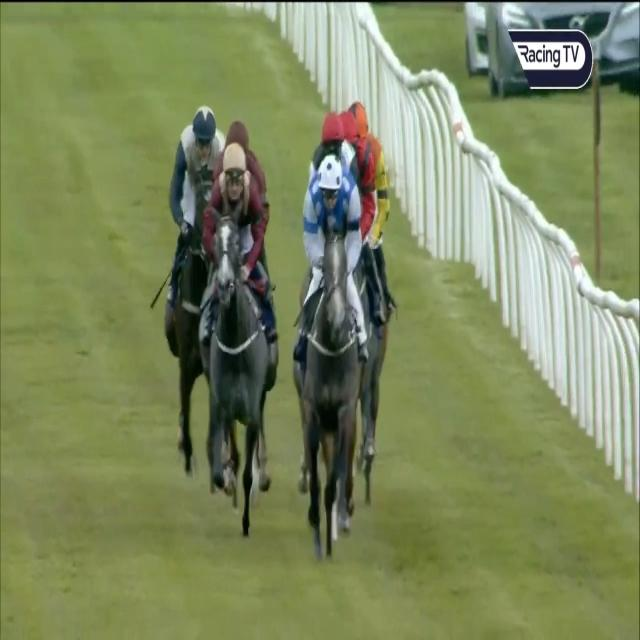horses-racing: (293, 161, 385, 565), (346, 92, 441, 466), (196, 145, 280, 520), (166, 101, 210, 433), (199, 112, 288, 253), (329, 108, 383, 215), (300, 112, 362, 186)
